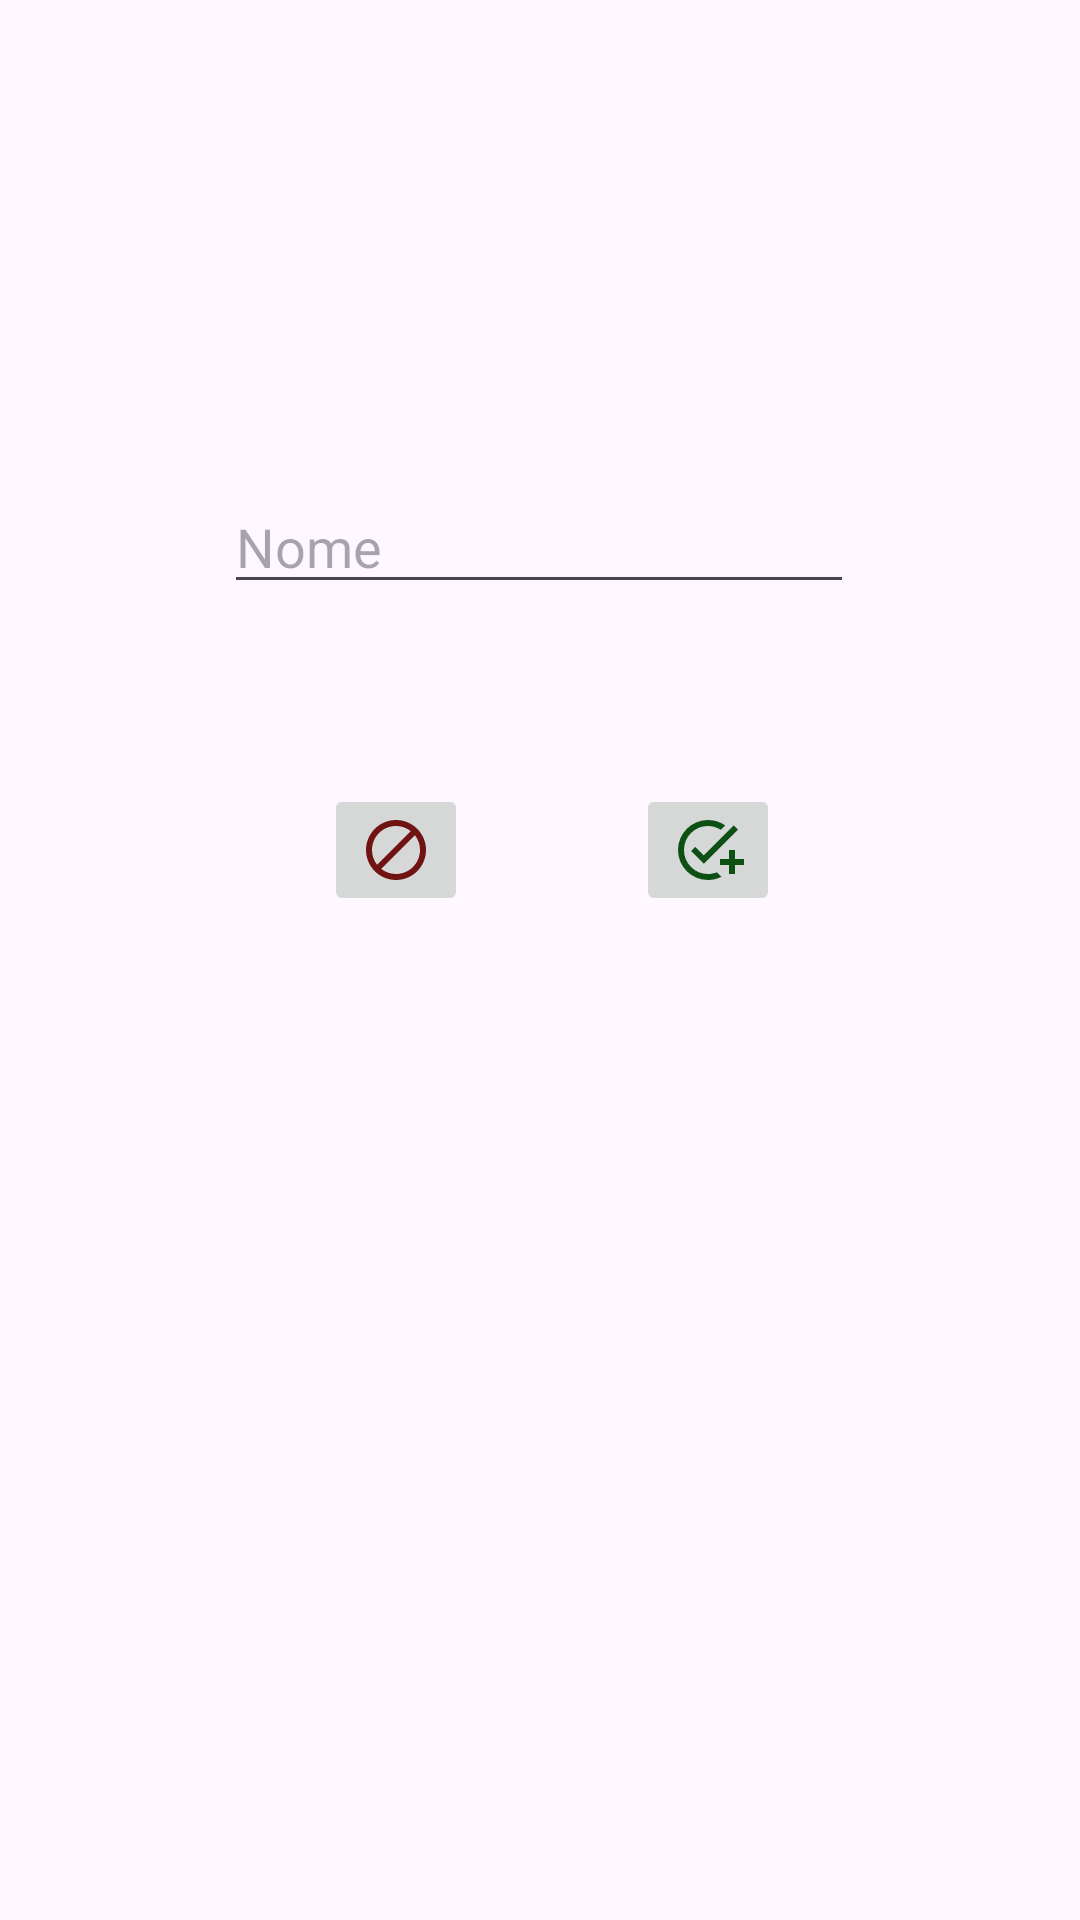

Locate icon controls on the screen. Image size 1080 × 1920, boxes as {"x1": x1, "y1": y1, "x2": x2, "y2": y2}.
cancelar: {"x1": 336, "y1": 802, "x2": 456, "y2": 898}
salvar: {"x1": 648, "y1": 802, "x2": 768, "y2": 898}
